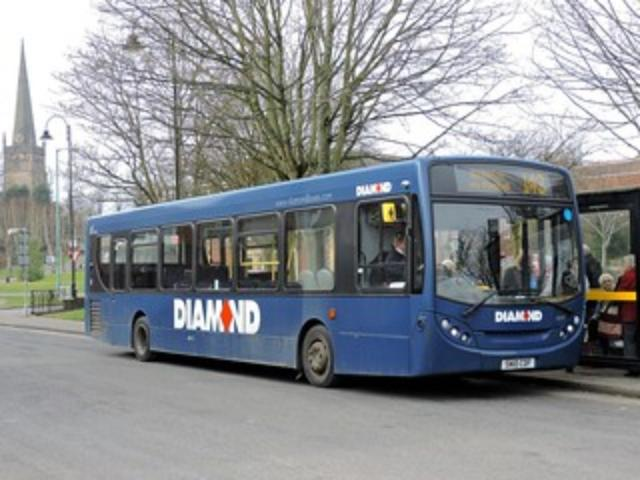bus: (84, 154, 584, 388)
